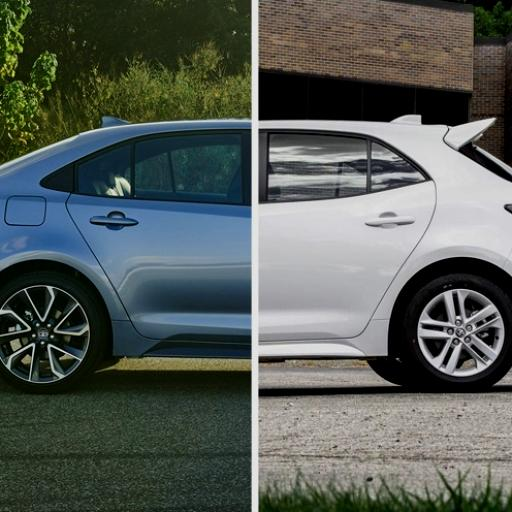hatchback: (261, 116, 512, 390)
sedan: (0, 117, 251, 391)
